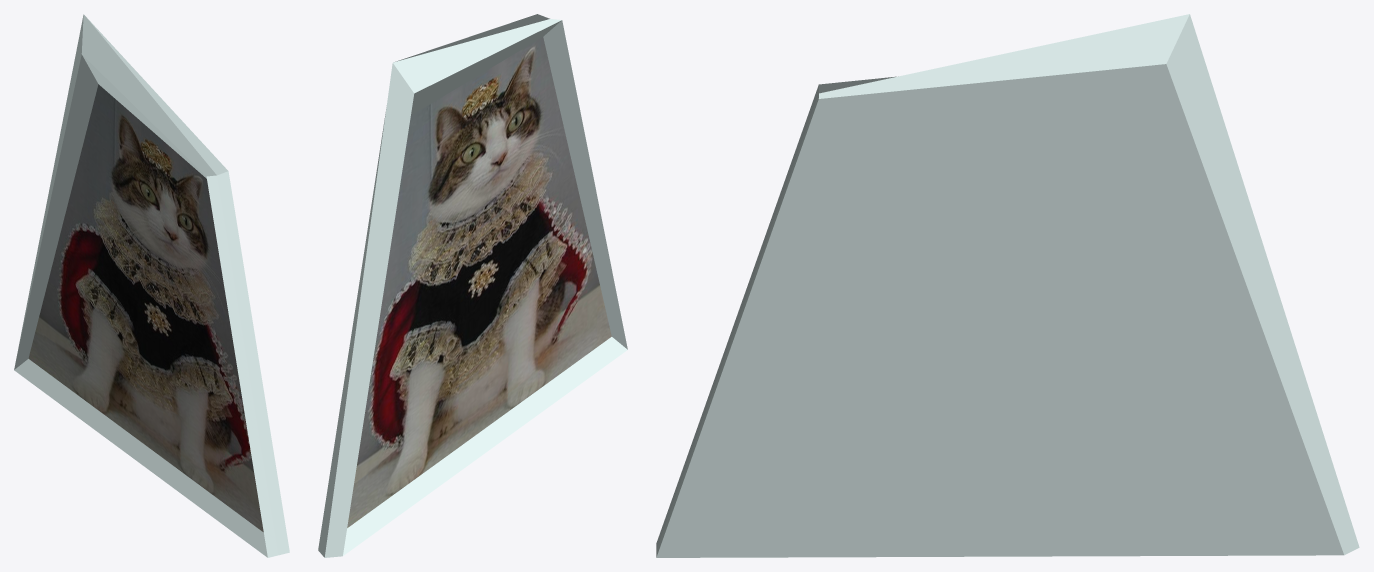
The model's file is photoFrameR.FBX.
3 views of the same model, side by side, from view 1: azimuth 30°, elevation 25°; view 2: azimuth 150°, elevation 25°; view 3: azimuth 270°, elevation 25° (orthographic). The views are drawn at different scales.
Parts seen in each view (by area): view 1: frame_L001; view 2: frame_L001; view 3: frame_L001.
Boxes of the visible parts, x1,y1,x2,y2 form: frame_L001: (14,14,289,557); frame_L001: (318,14,627,557); frame_L001: (656,14,1359,557).
Size of the model in its own units: 1.52 by 22.53 by 26.71.
1 material, 1 textured.
